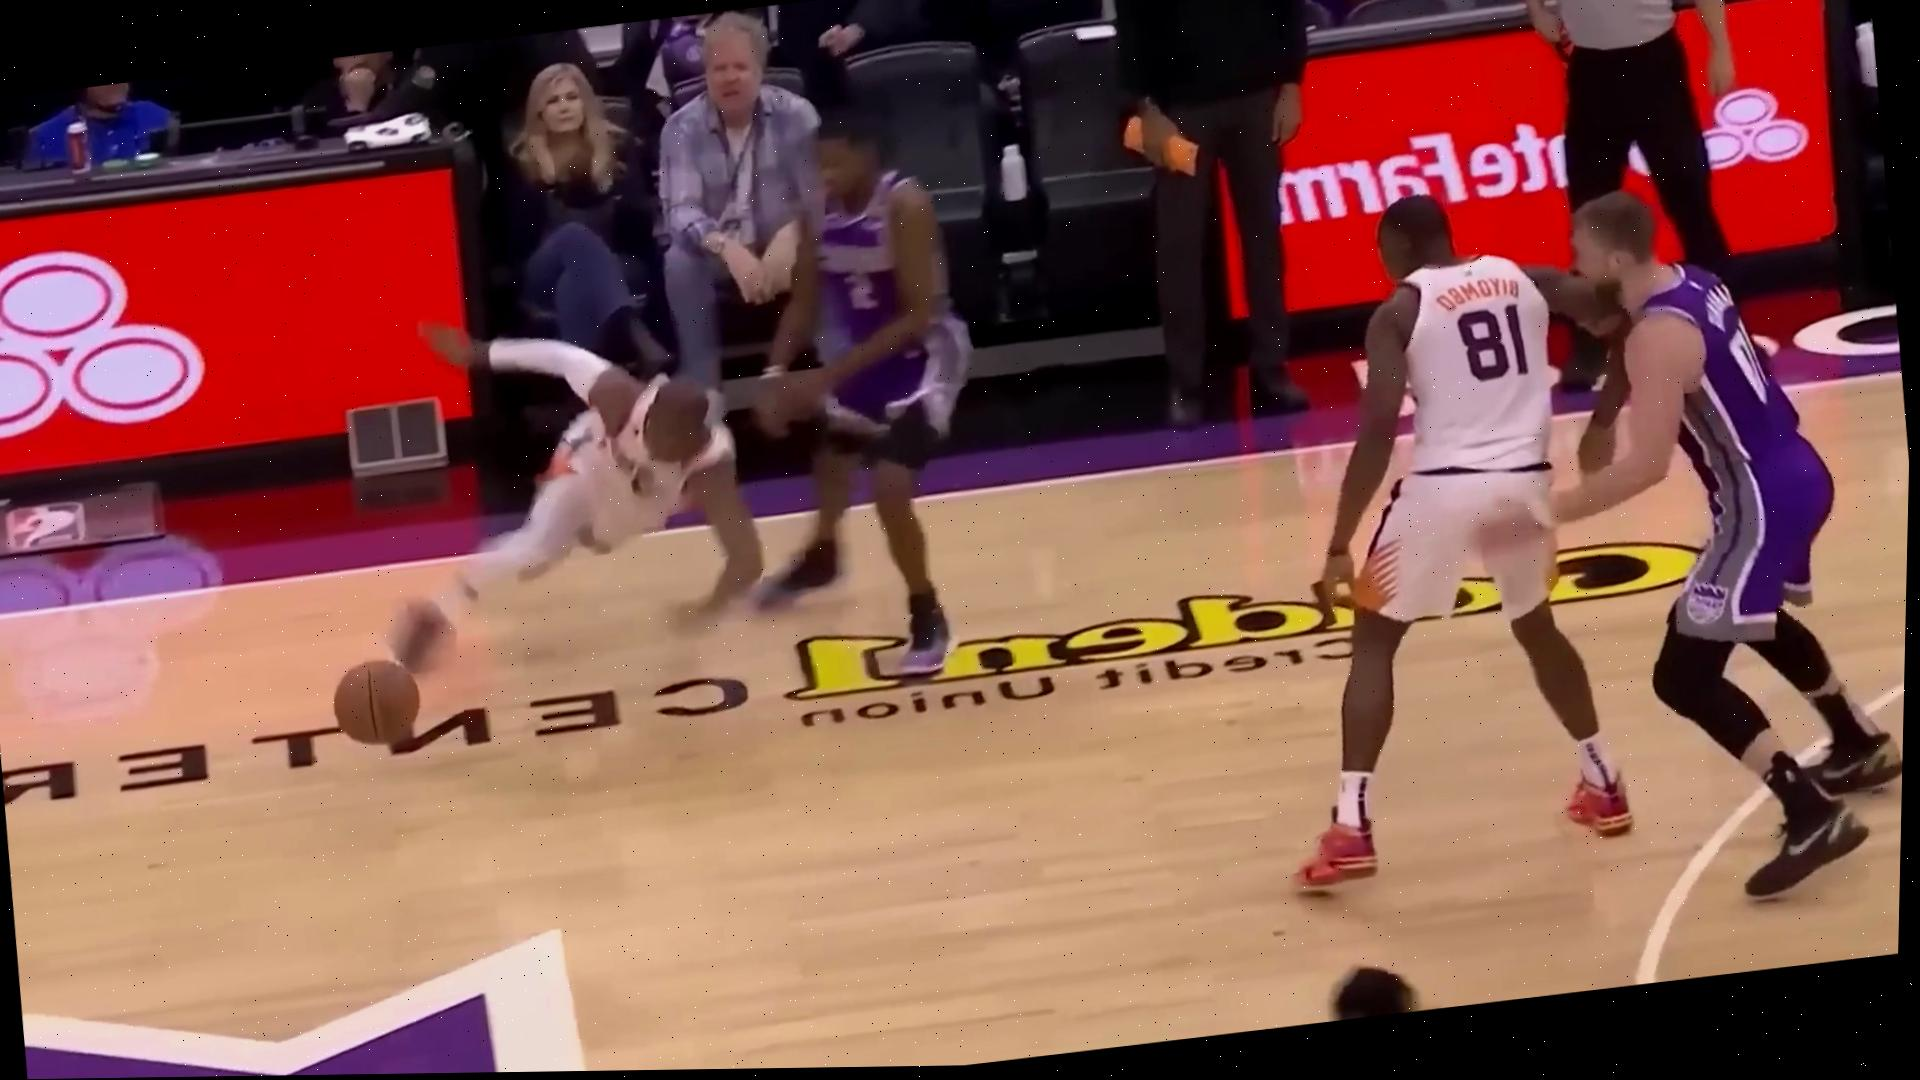foul: (377, 128, 997, 713)
